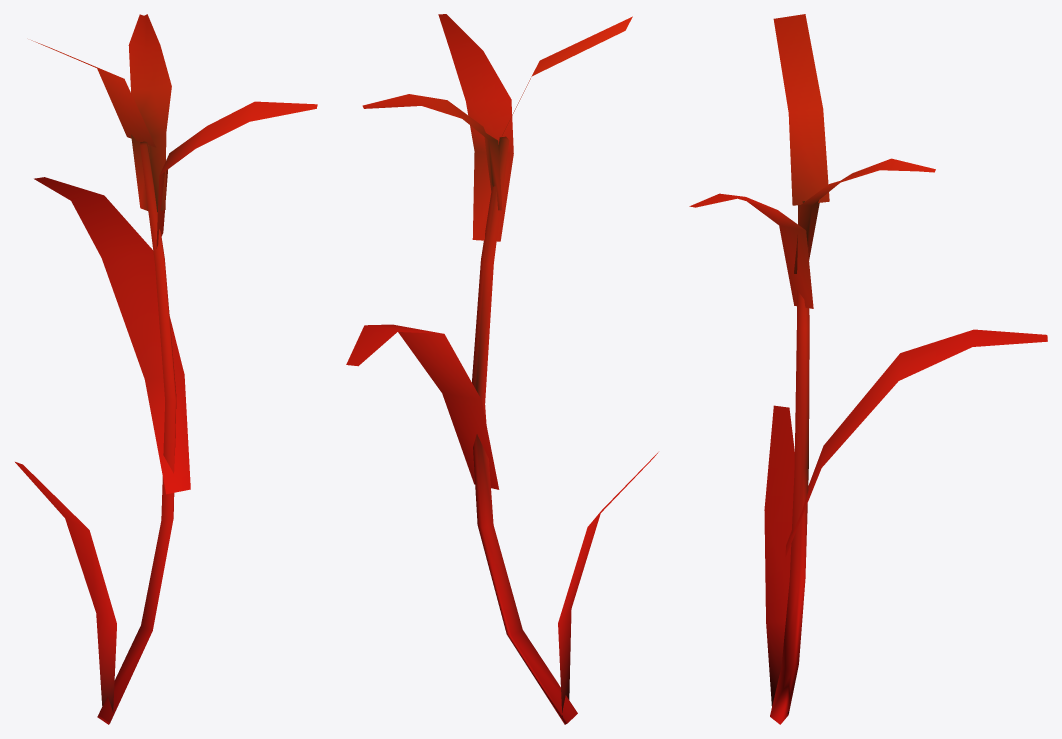
The model's file is SM_WheatPlants_4.fbx.
3 renders of one model, left to right at view 1: azimuth 30°, elevation 25°; view 2: azimuth 150°, elevation 25°; view 3: azimuth 270°, elevation 25°, orthographic. The views are drawn at different scales.
Parts seen in each view (by area): view 1: SM_WheatPlants_4; view 2: SM_WheatPlants_4; view 3: SM_WheatPlants_4.
Boxes of the visible parts, <box> form: SM_WheatPlants_4: <box>15,14,317,724</box>; SM_WheatPlants_4: <box>346,14,658,724</box>; SM_WheatPlants_4: <box>689,14,1047,724</box>.
Bounding box in the file's own units: 0.3419 × 0.8895 × 0.4273.
